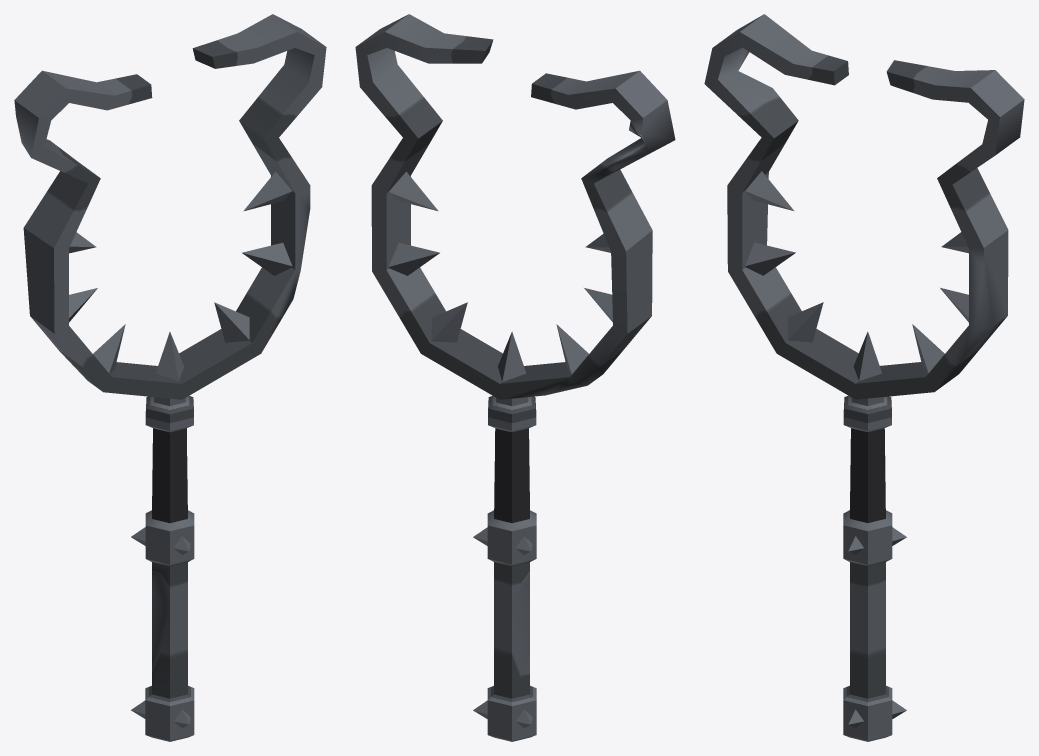
Rendered from SM_Prop_Surgical_Tool_01.fbx.
3 views of the same model, side by side, from view 1: azimuth 30°, elevation 25°; view 2: azimuth 150°, elevation 25°; view 3: azimuth 330°, elevation 25° (orthographic).
Parts seen in each view (by area): view 1: SM_Prop_Surgical_Tool_01; view 2: SM_Prop_Surgical_Tool_01; view 3: SM_Prop_Surgical_Tool_01.
Boxes of the visible parts, bbox=[...] form: SM_Prop_Surgical_Tool_01: bbox=[14, 14, 326, 741]; SM_Prop_Surgical_Tool_01: bbox=[355, 14, 675, 741]; SM_Prop_Surgical_Tool_01: bbox=[704, 14, 1024, 741].
Size of the model in its own units: 43.9 by 96.83 by 9.22.
